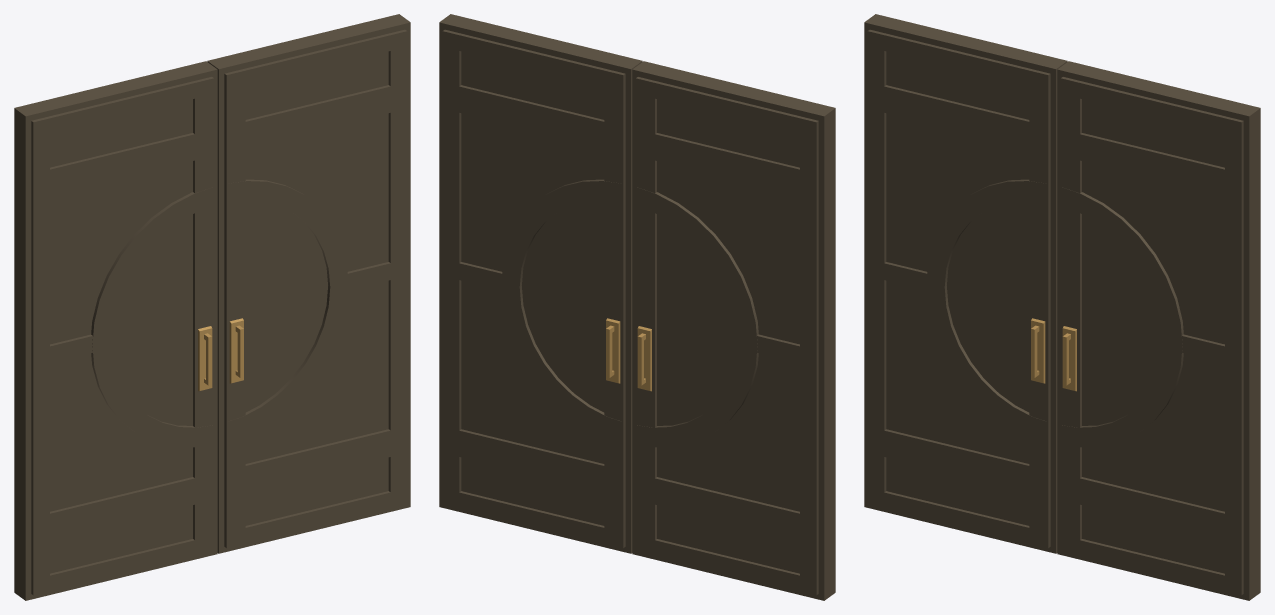
File: Door_Double.glb
The picture shows the model from 3 angles, left to right: view 1: azimuth 30°, elevation 25°; view 2: azimuth 150°, elevation 25°; view 3: azimuth 330°, elevation 25°; orthographic projection.
Visible parts, largest first — view 1: Door_DoubleLeft, Door_DoubleRight; view 2: Door_DoubleLeft, Door_DoubleRight; view 3: Door_DoubleRight, Door_DoubleLeft.
Boxes of the visible parts, <box> form: Door_DoubleLeft: <box>14,61,217,600</box>; Door_DoubleRight: <box>207,14,410,553</box>; Door_DoubleLeft: <box>632,61,835,600</box>; Door_DoubleRight: <box>439,14,642,553</box>; Door_DoubleRight: <box>1057,61,1260,600</box>; Door_DoubleLeft: <box>864,14,1067,553</box>.
Size of the model in its own units: 3.48 by 4.19 by 0.4298.
